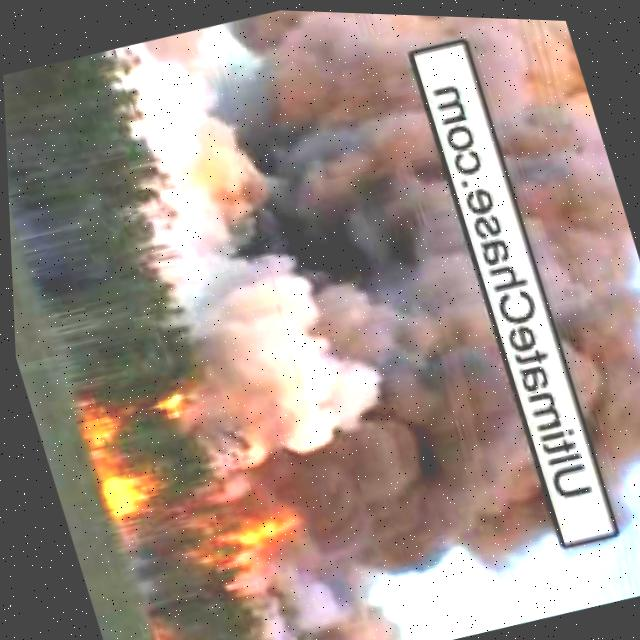Fire: (111, 3, 570, 640), (447, 13, 640, 485), (71, 374, 227, 526), (217, 500, 297, 554), (154, 627, 197, 640)
